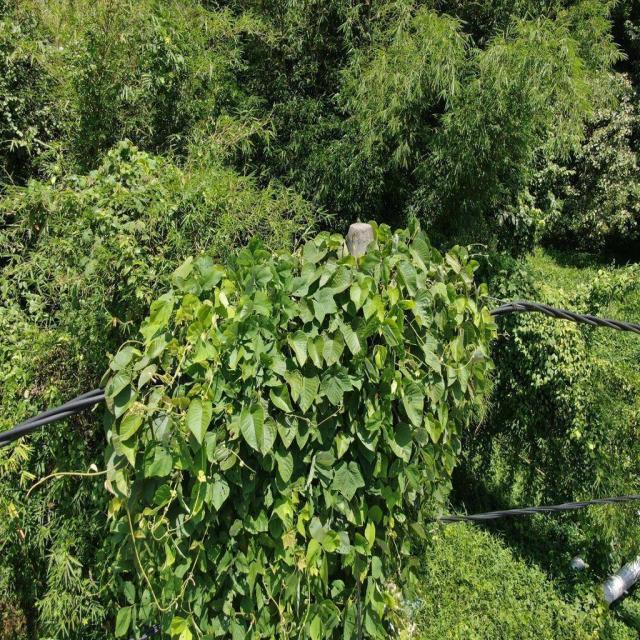critical vegetation: (85, 212, 508, 582)
